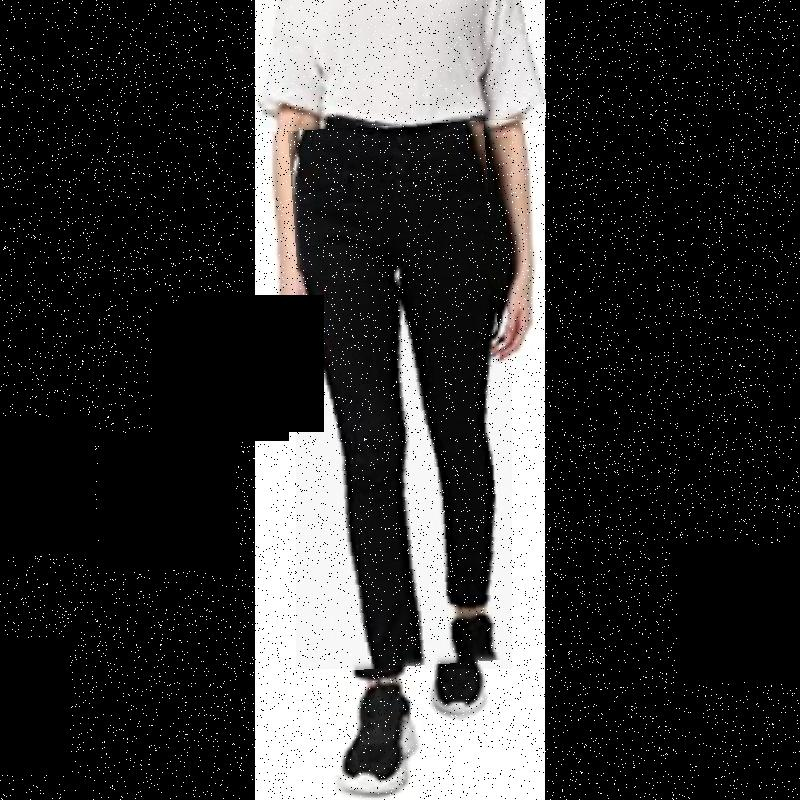Jeans: (296, 95, 512, 669)
Shirt: (258, 0, 545, 128)
